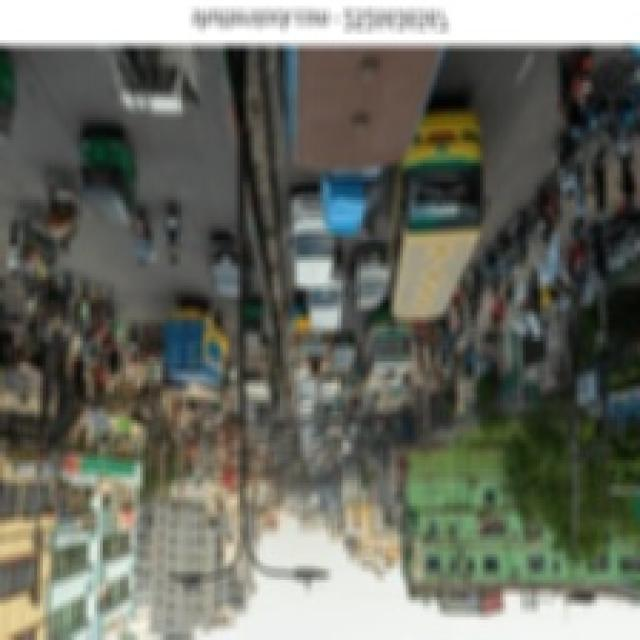car: (286, 191, 337, 291), (345, 242, 391, 319), (203, 234, 253, 295), (330, 329, 356, 376), (317, 377, 344, 405)
rickshaw: (38, 183, 83, 242)
